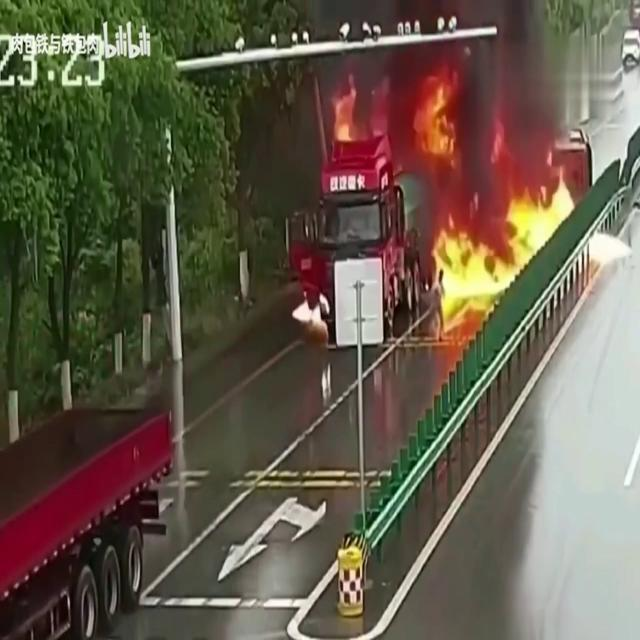single accident: (228, 57, 598, 313)
